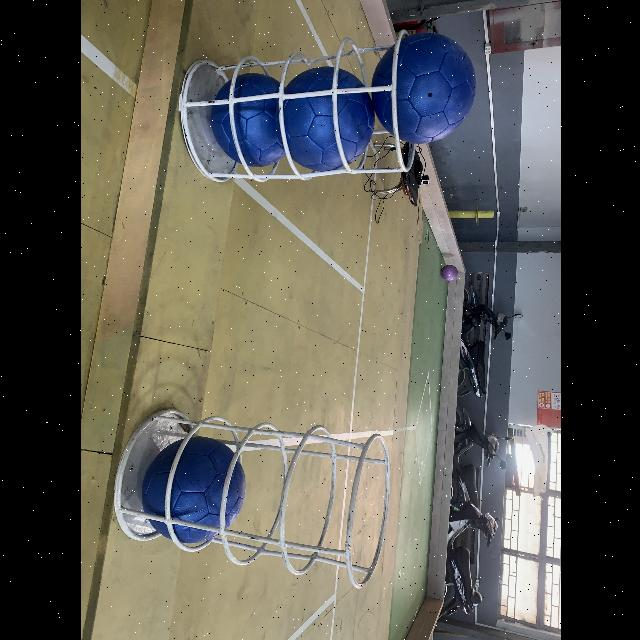B: (372, 34, 476, 142), (141, 437, 245, 543), (282, 70, 374, 172), (210, 74, 284, 164)
